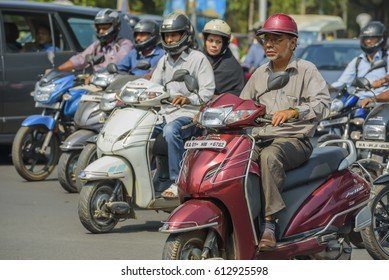bike: (153, 92, 368, 250), (17, 7, 121, 183), (78, 62, 185, 229)
